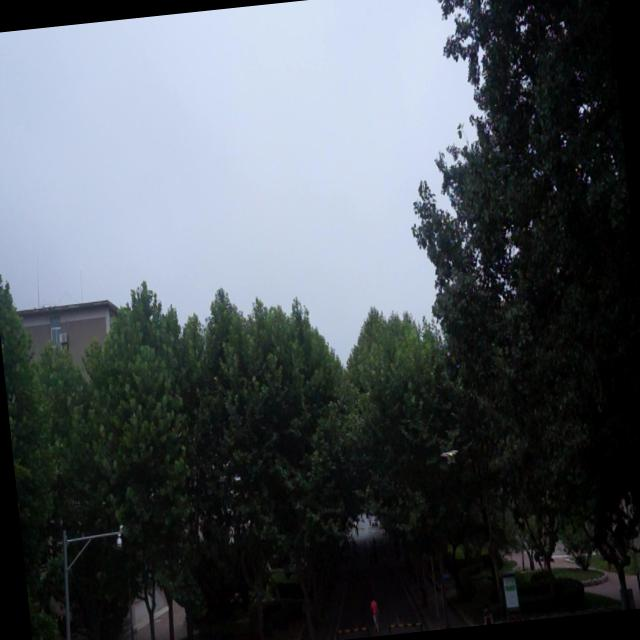drone: (438, 444, 462, 465)
